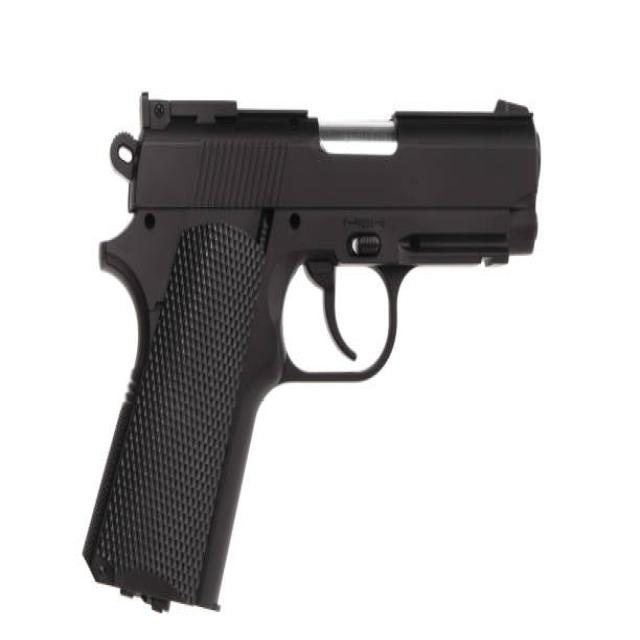pistol: (71, 89, 547, 622)
